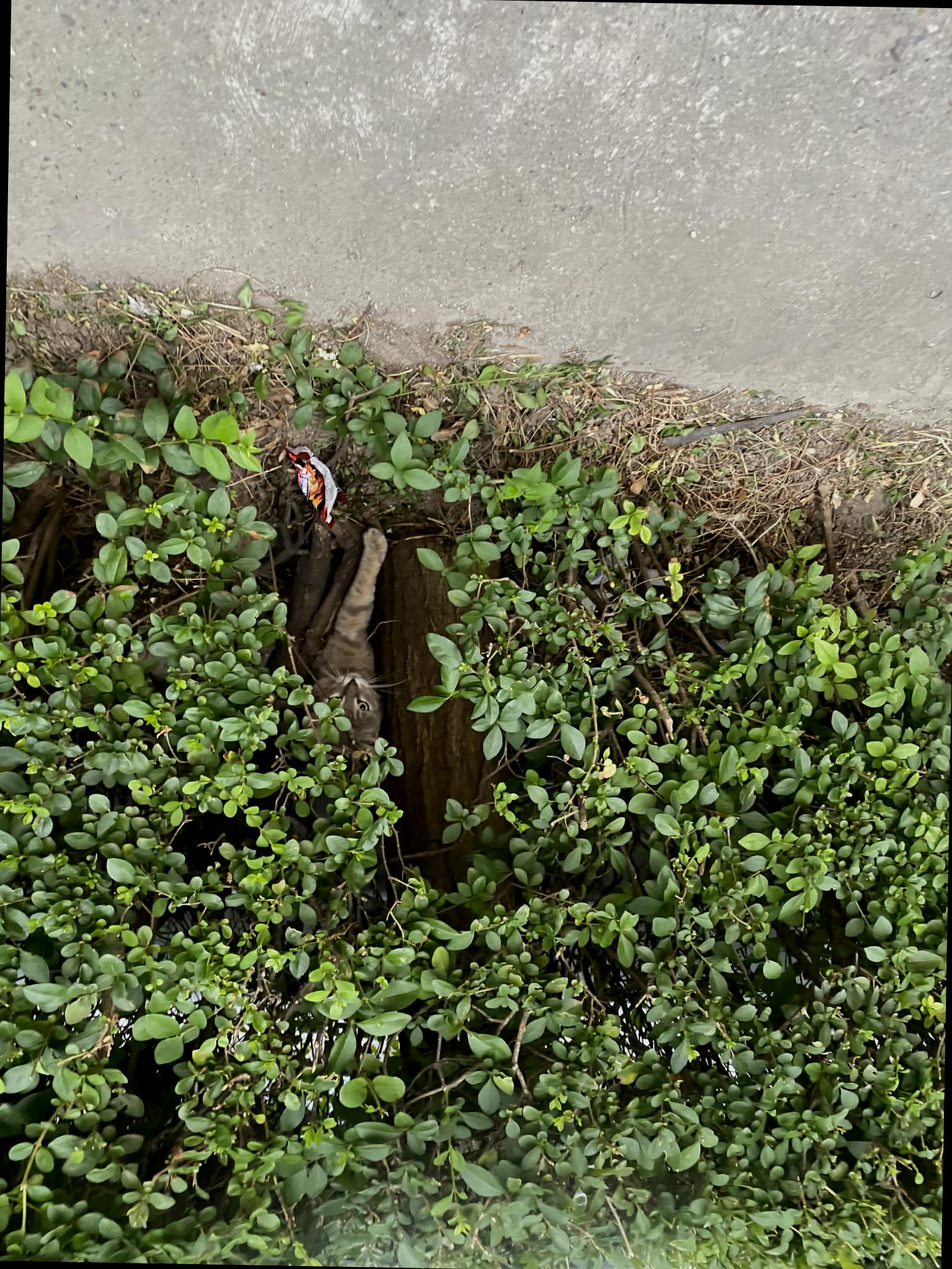macka: (311, 525, 389, 754)
